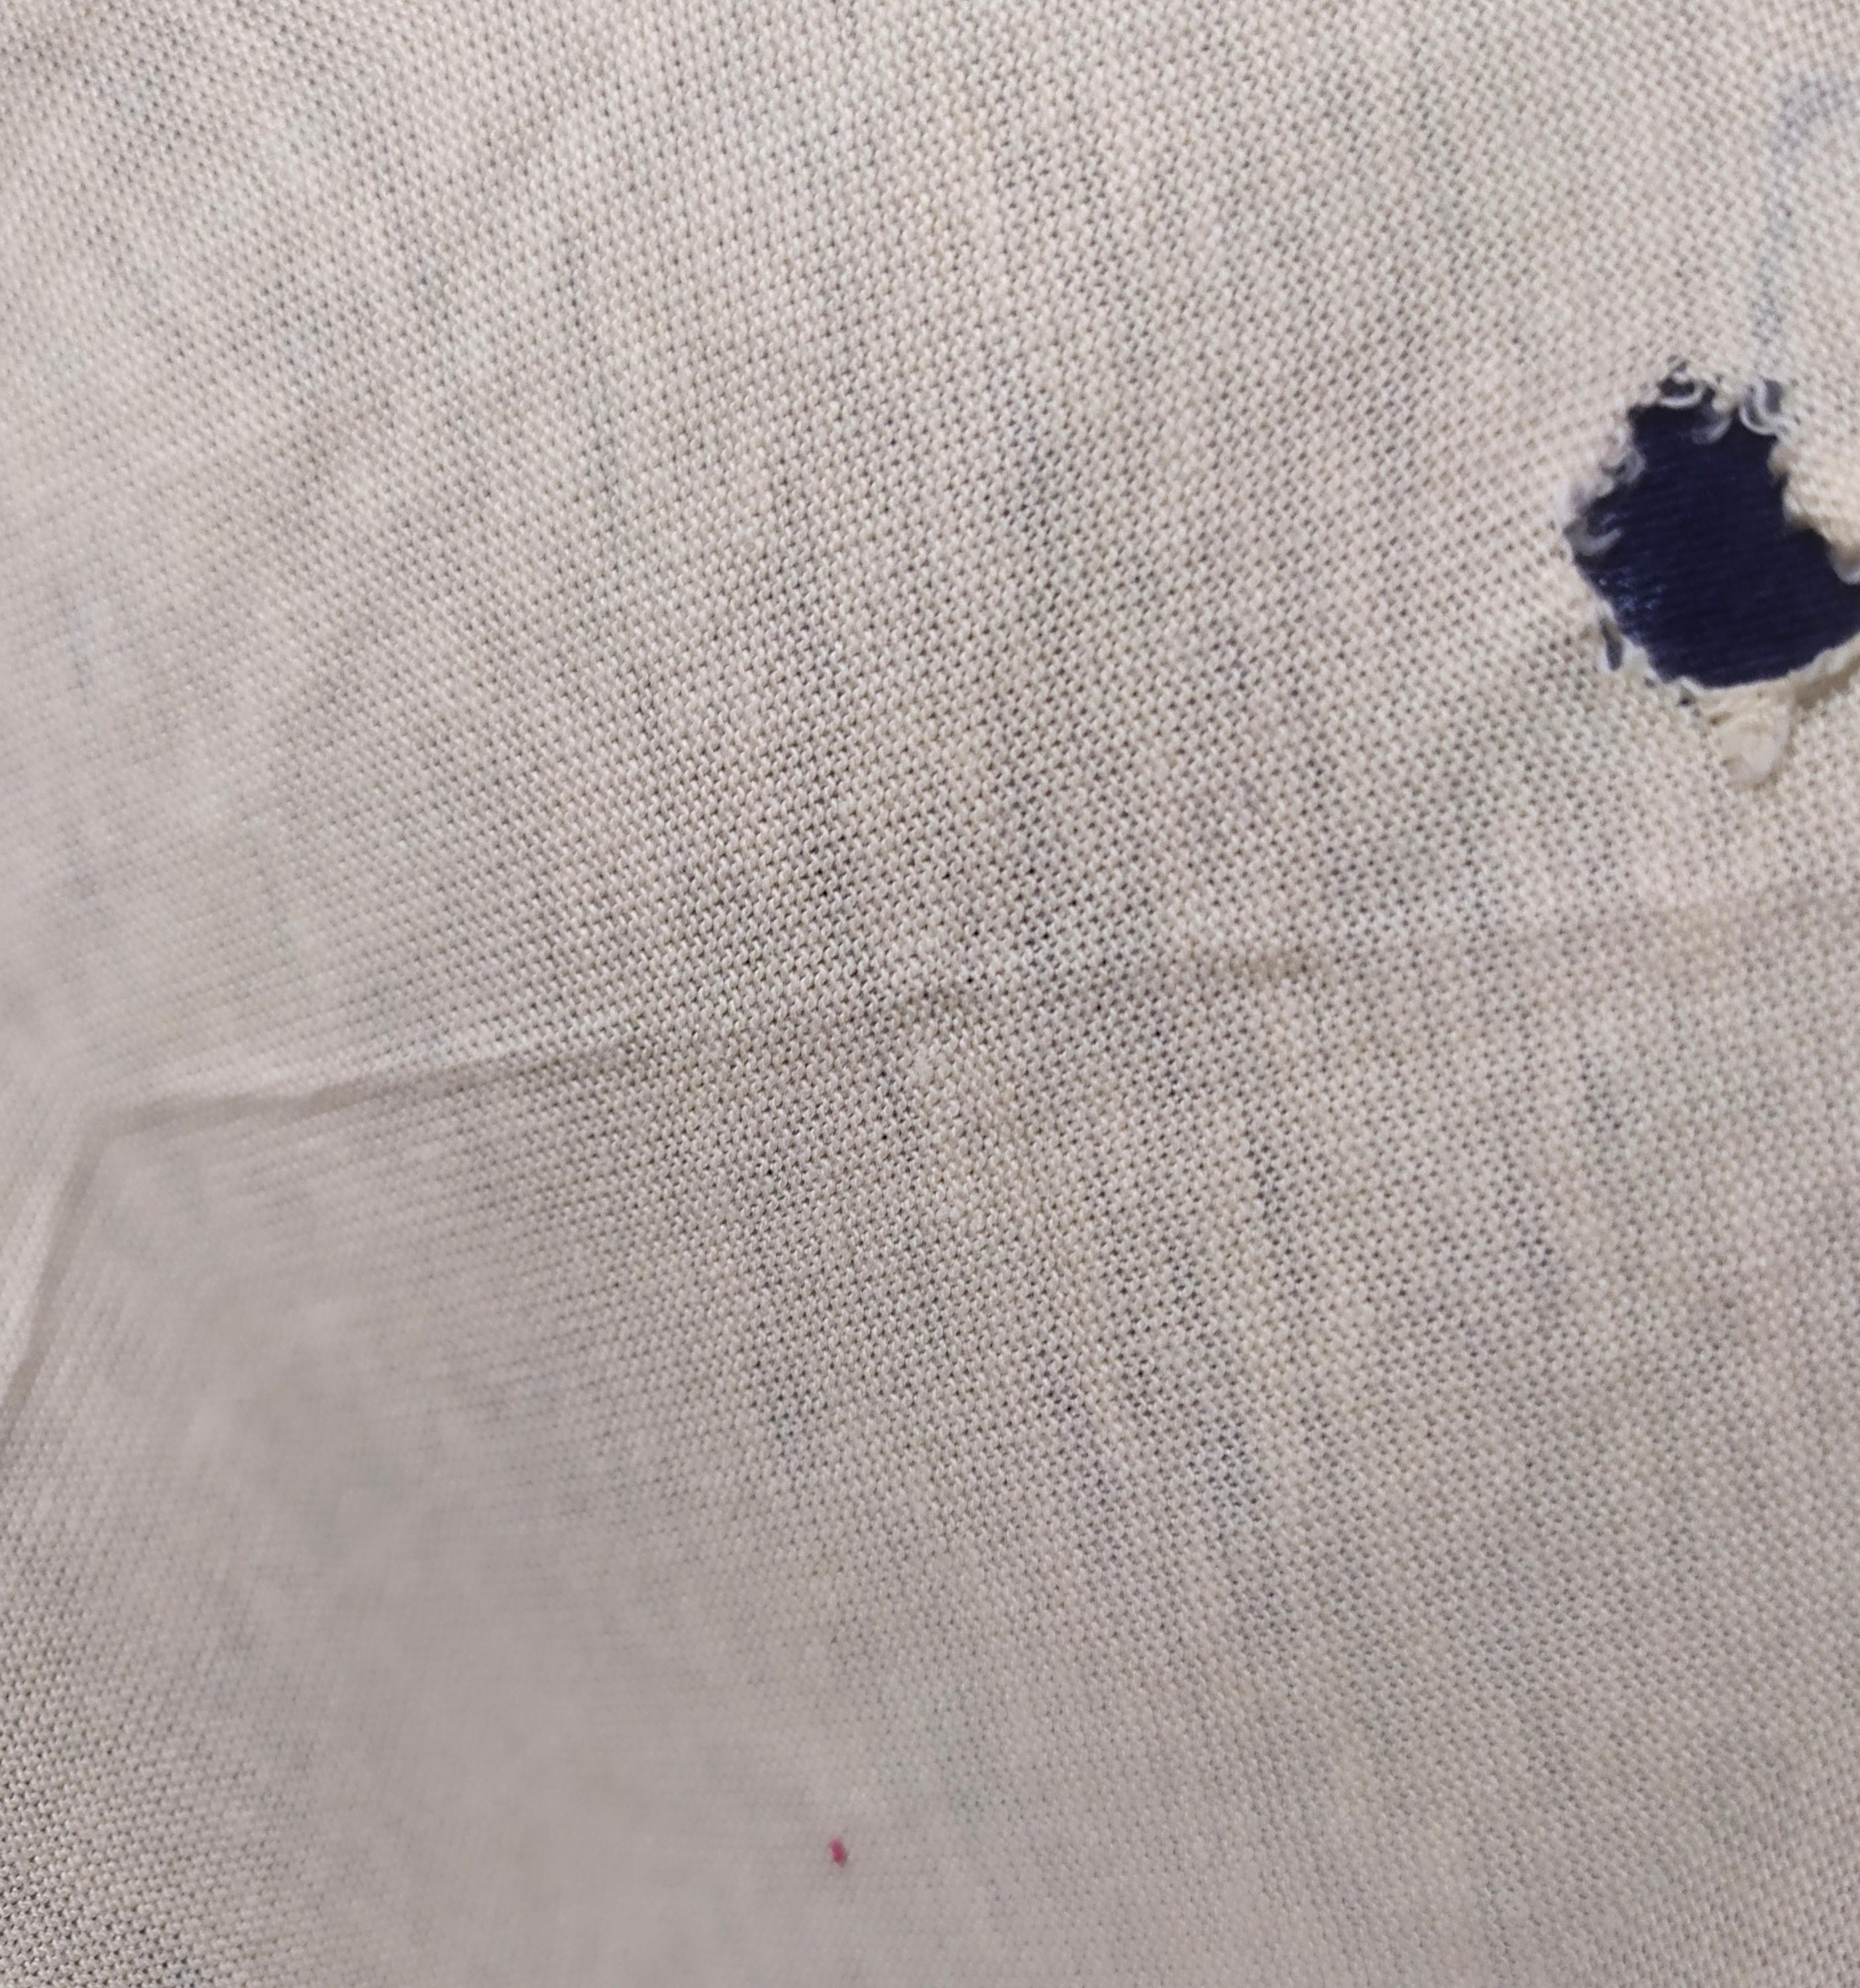hole: (1544, 334, 1860, 780)
